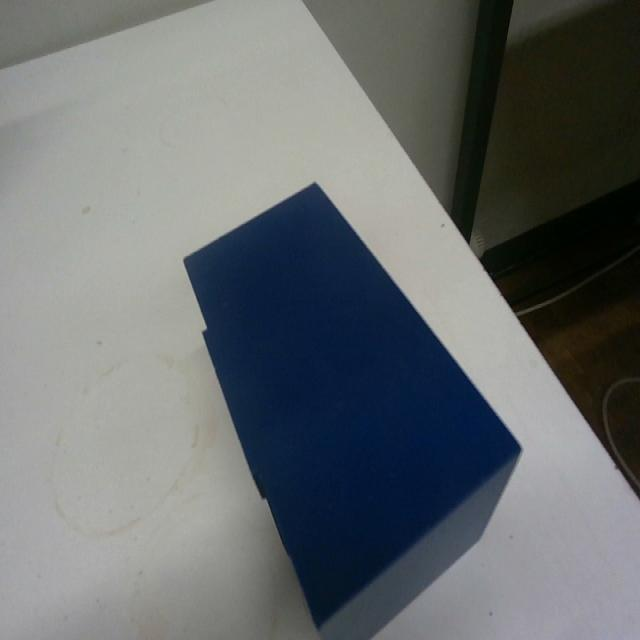Blue Cuboid: (181, 177, 523, 636)
